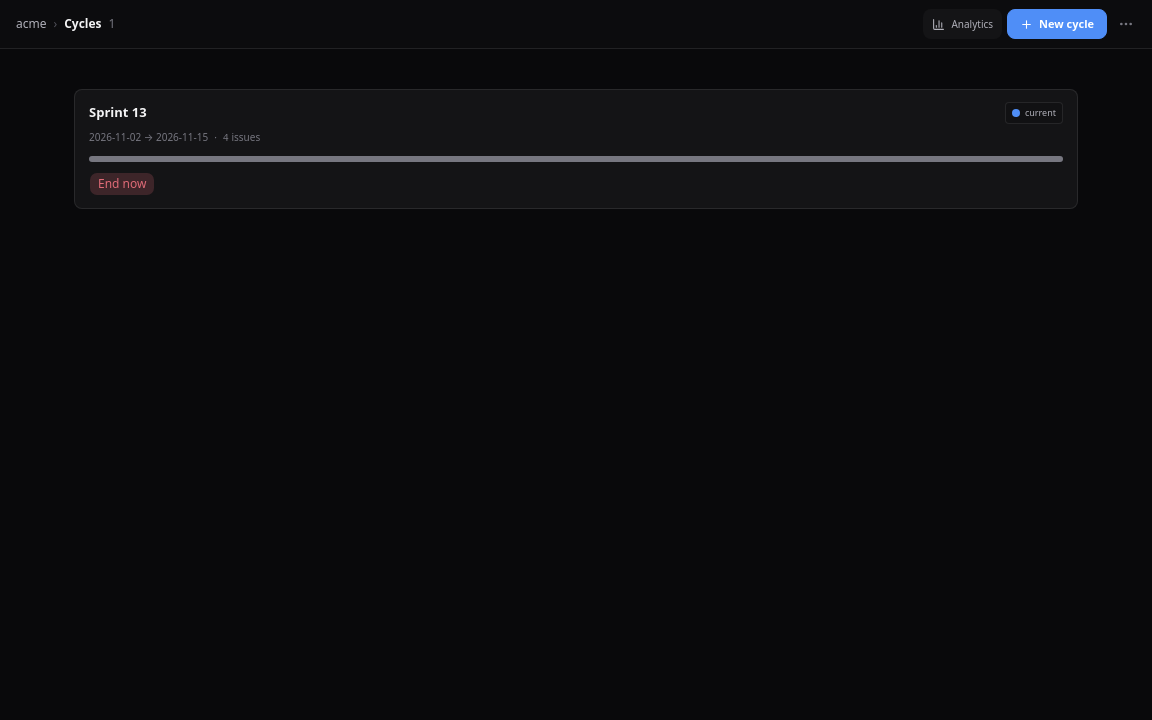
Scenario: cycle detail PQL mode (C95T1) › default mode shows the full membership list with no PQL editor
The width and height of the screenshot is (1152, 720).
What coordinates should you click on to do the following:
click the button with aria-label "Open cycle Sprint 13"
I would click on:
 (118, 112)
Its box is [74, 89, 1078, 209].
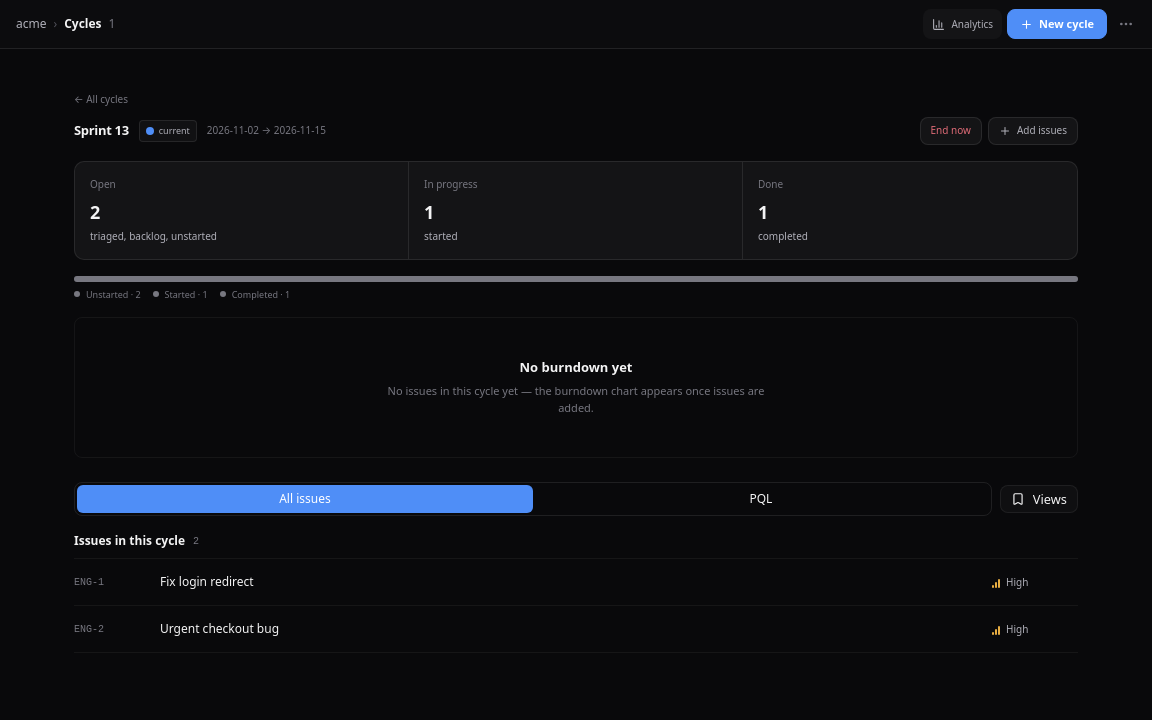
Check: the heading "Issues in this cycle" is shown, box [74, 532, 185, 550]
Check: the text "Fix login redirect" is shown, box [160, 573, 254, 590]
Check: the text "Urgent checkout bug" is shown, box [160, 620, 279, 637]
